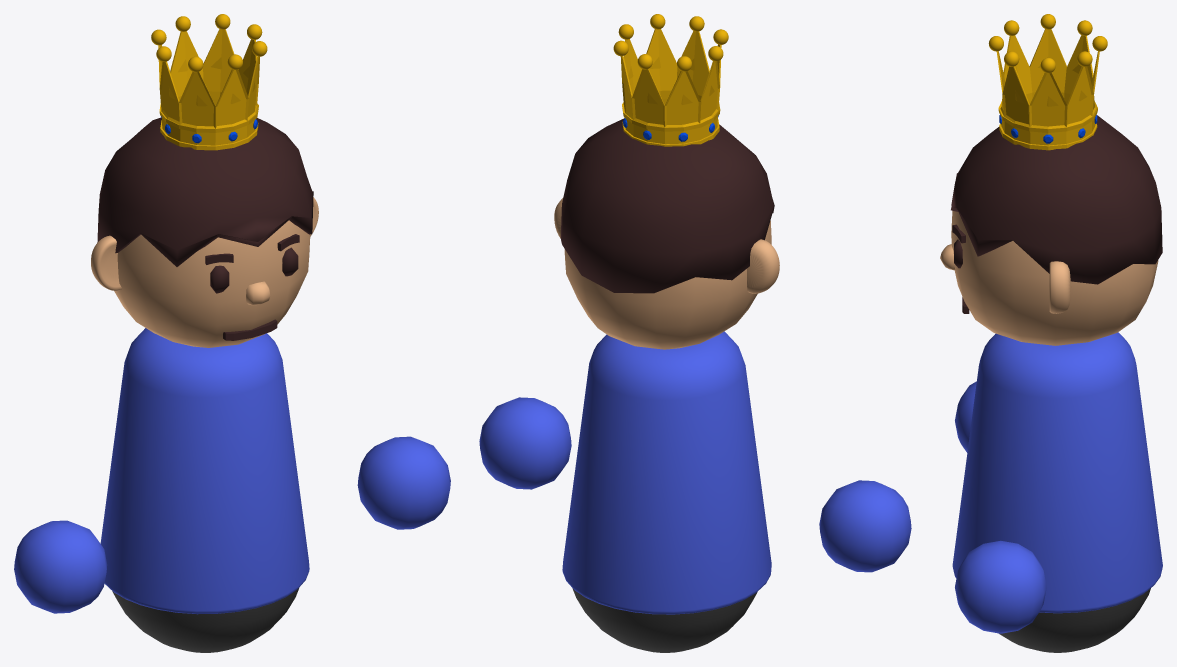
The model's file is mii-crown.glb.
3 renders of one model, left to right at view 1: azimuth 30°, elevation 25°; view 2: azimuth 150°, elevation 25°; view 3: azimuth 270°, elevation 25°, orthographic.
Visible parts, largest first — view 1: nose; view 2: nose; view 3: nose.
Boxes of the visible parts, x1,y1,x2,y2 form: nose: [14, 14, 450, 652]; nose: [479, 14, 911, 652]; nose: [940, 14, 1162, 652].
Bounding box in the file's own units: 1.52 × 2.1 × 0.6984.
